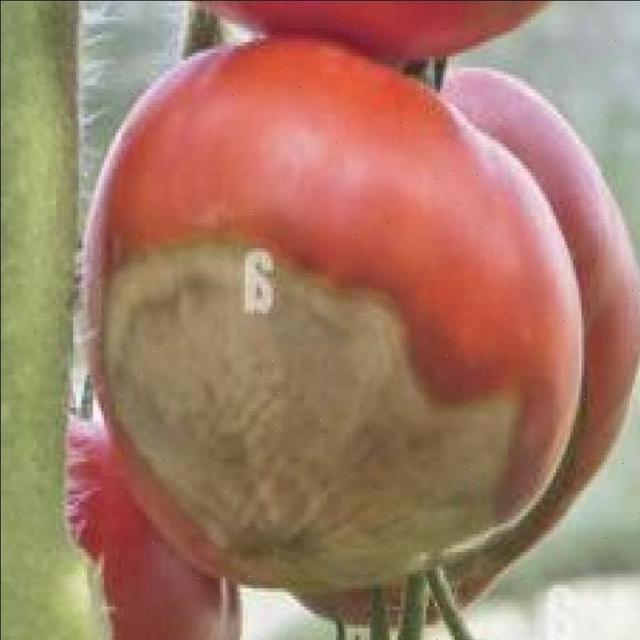Blossom End Rot Fruit: (71, 144, 352, 386)
